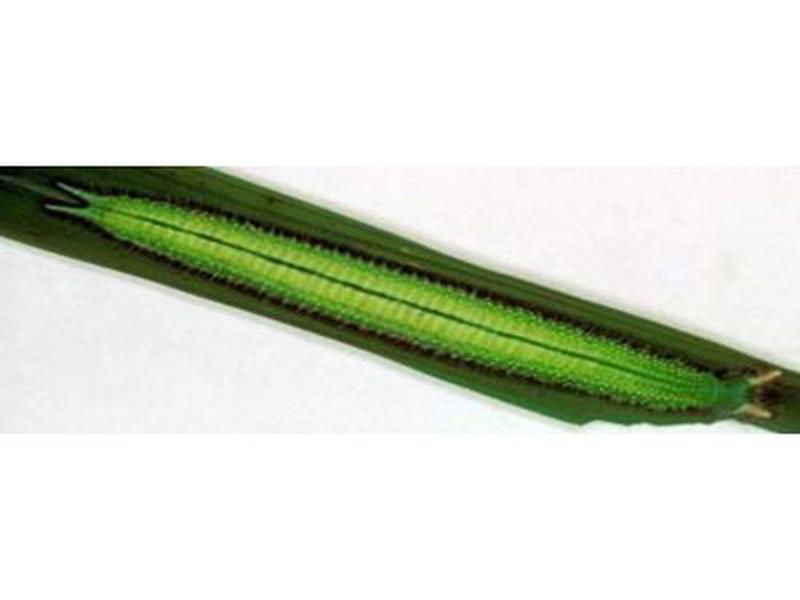Rice_horned_caterpillar: (57, 168, 784, 474)
